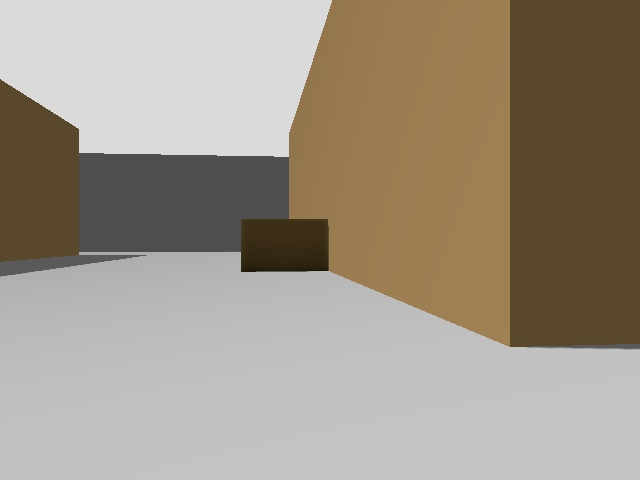package: (248, 223, 327, 272)
